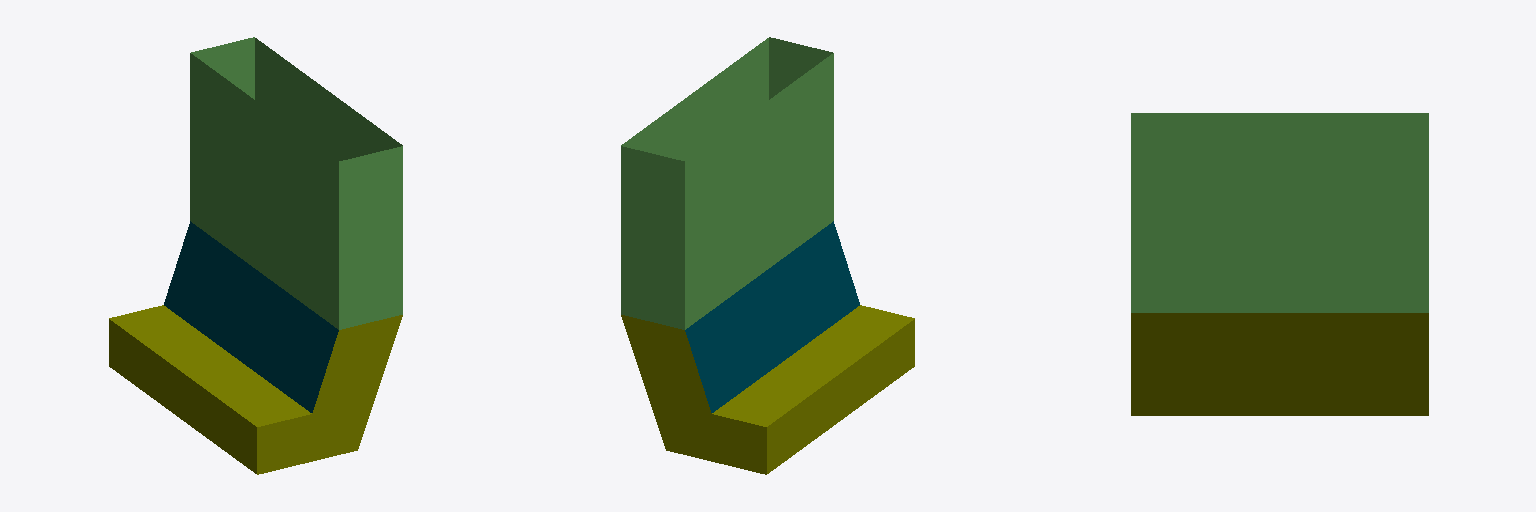
Rendered from wall1.obj.
3 renders of one model, left to right at view 1: azimuth 30°, elevation 25°; view 2: azimuth 150°, elevation 25°; view 3: azimuth 270°, elevation 25°, orthographic.
Parts seen in each view (by area): view 1: Cube.021_Cube.058; view 2: Cube.021_Cube.058; view 3: Cube.021_Cube.058.
Boxes of the visible parts, <box> form: Cube.021_Cube.058: <box>109,37,402,474</box>; Cube.021_Cube.058: <box>621,37,914,474</box>; Cube.021_Cube.058: <box>1131,113,1428,415</box>.
Size of the model in its own units: 90.73 by 174 by 160.